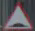Speed Breaker ahead: (3, 2, 32, 29)
